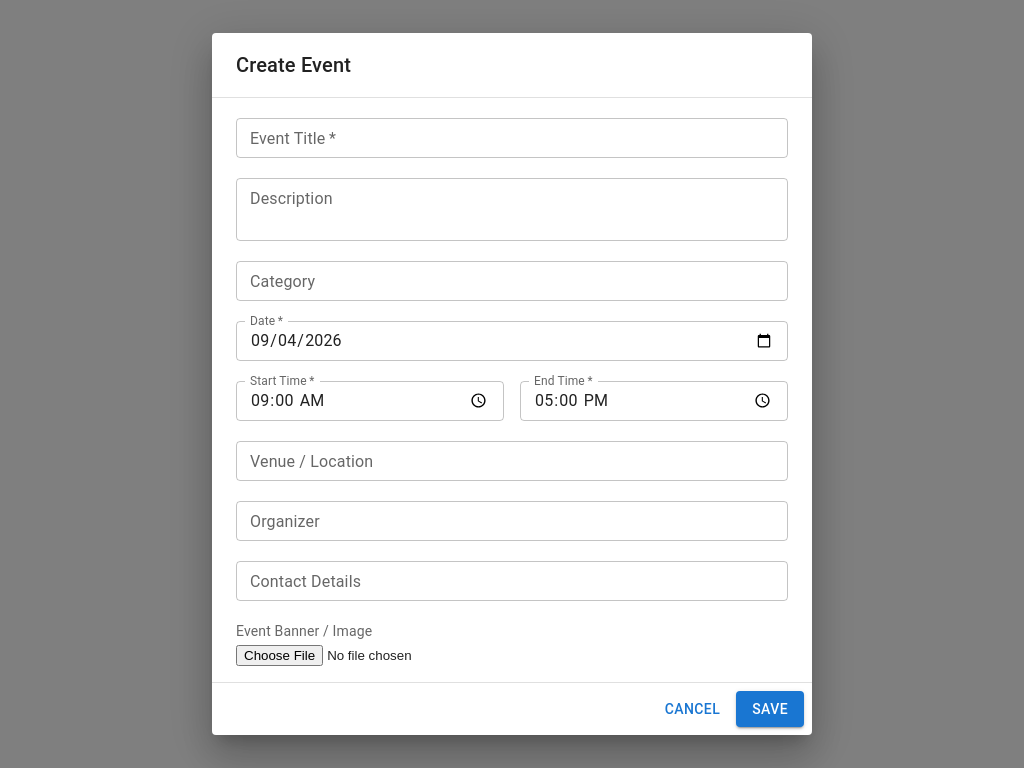
Test case: EventFormDialog › rejects Save with a blank title, highlighting the field
This screenshot has width=1024, height=768.
Click the button "Save": coordinates (770, 709) [736,691,804,727]
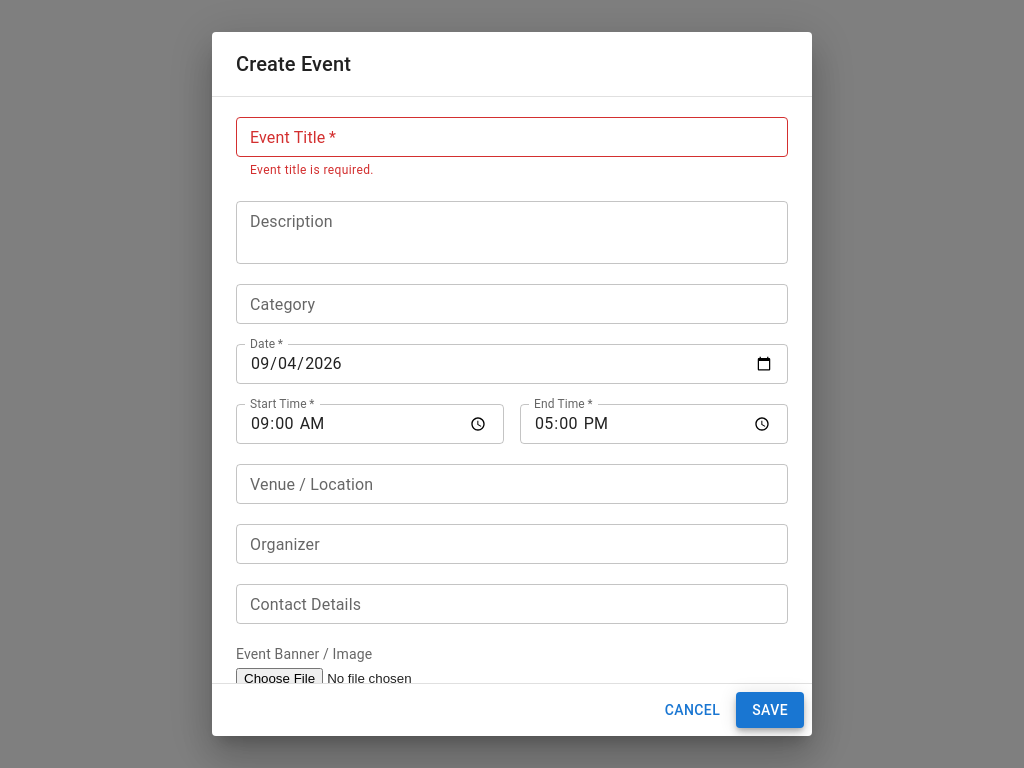
Check: the text "Event title is required." is shown, box [250,163,374,177]
